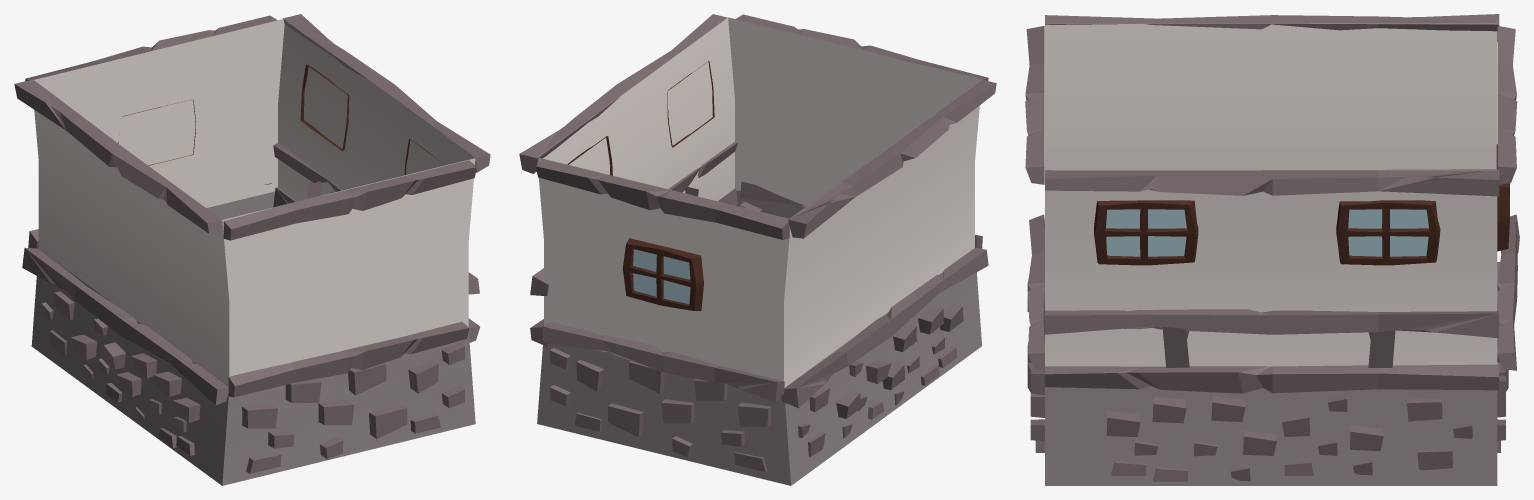
The model's file is SM_L_R_Home_Base.fbx.
3 renders of one model, left to right at view 1: azimuth 30°, elevation 25°; view 2: azimuth 150°, elevation 25°; view 3: azimuth 270°, elevation 25°, orthographic. The views are drawn at different scales.
Parts seen in each view (by area): view 1: SM_L_R_Home_Base2; view 2: SM_L_R_Home_Base2; view 3: SM_L_R_Home_Base2.
Boxes of the visible parts, left/top/right/bottom form: SM_L_R_Home_Base2: left=14, top=14, right=490, bottom=485; SM_L_R_Home_Base2: left=519, top=14, right=996, bottom=485; SM_L_R_Home_Base2: left=1025, top=14, right=1519, bottom=485.
Size of the model in its own units: 4.84 by 4.28 by 6.06.
1 material, 1 textured.
